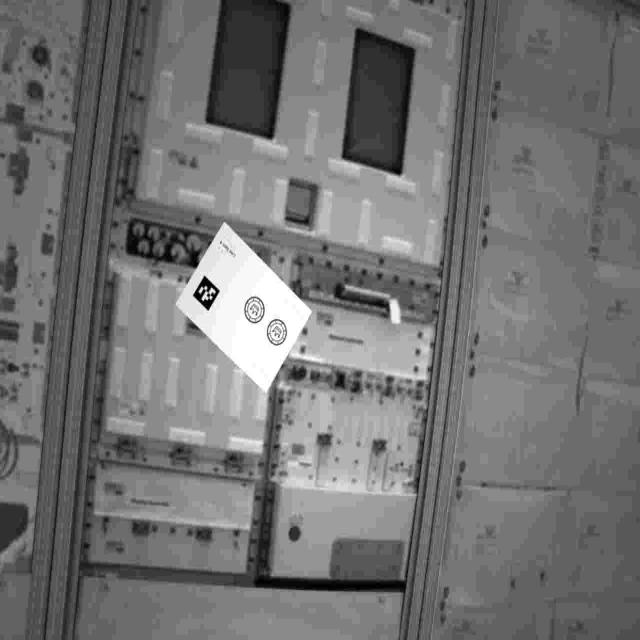coin: (243, 295, 268, 328), (267, 318, 290, 350)
